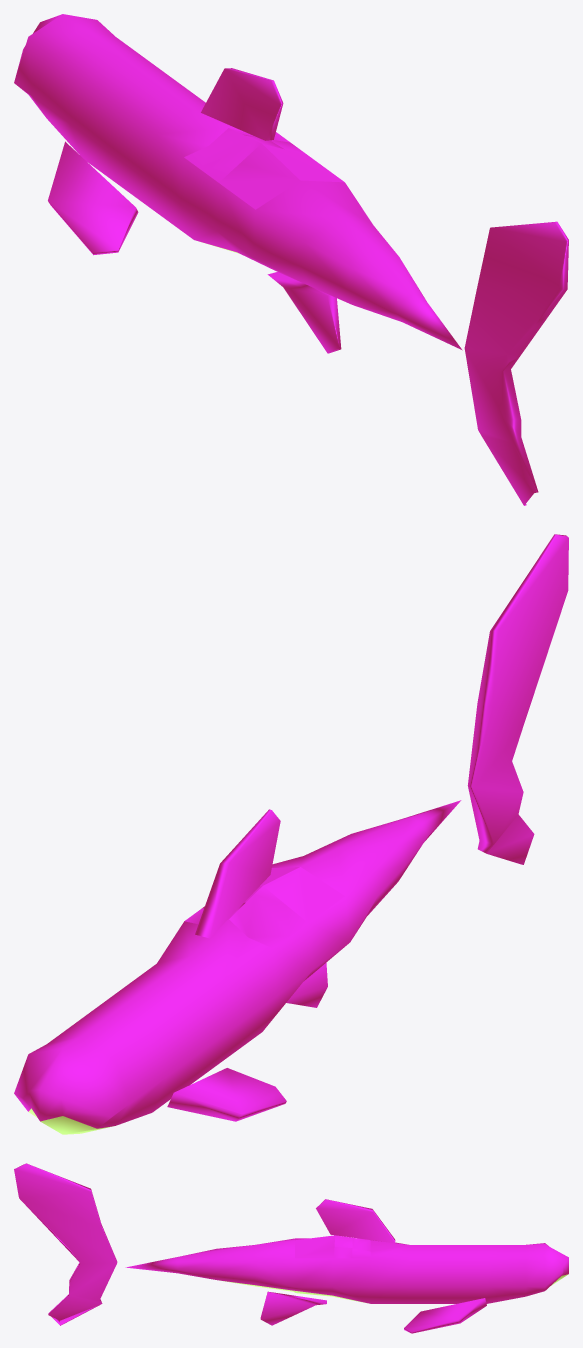
The model's file is Enemy.gltf.
3 views of the same model, one above another, from view 1: azimuth 30°, elevation 25°; view 2: azimuth 150°, elevation 25°; view 3: azimuth 270°, elevation 25° (orthographic). The views are drawn at different scales.
Visible parts, largest first — view 1: Body; view 2: Body; view 3: Body.
Boxes of the visible parts, x1,y1,x2,y2 form: Body: (14,14,568,505); Body: (14,534,568,1134); Body: (14,1163,568,1333).
Bounding box in the file's own units: 0.729 × 1.07 × 3.33.
